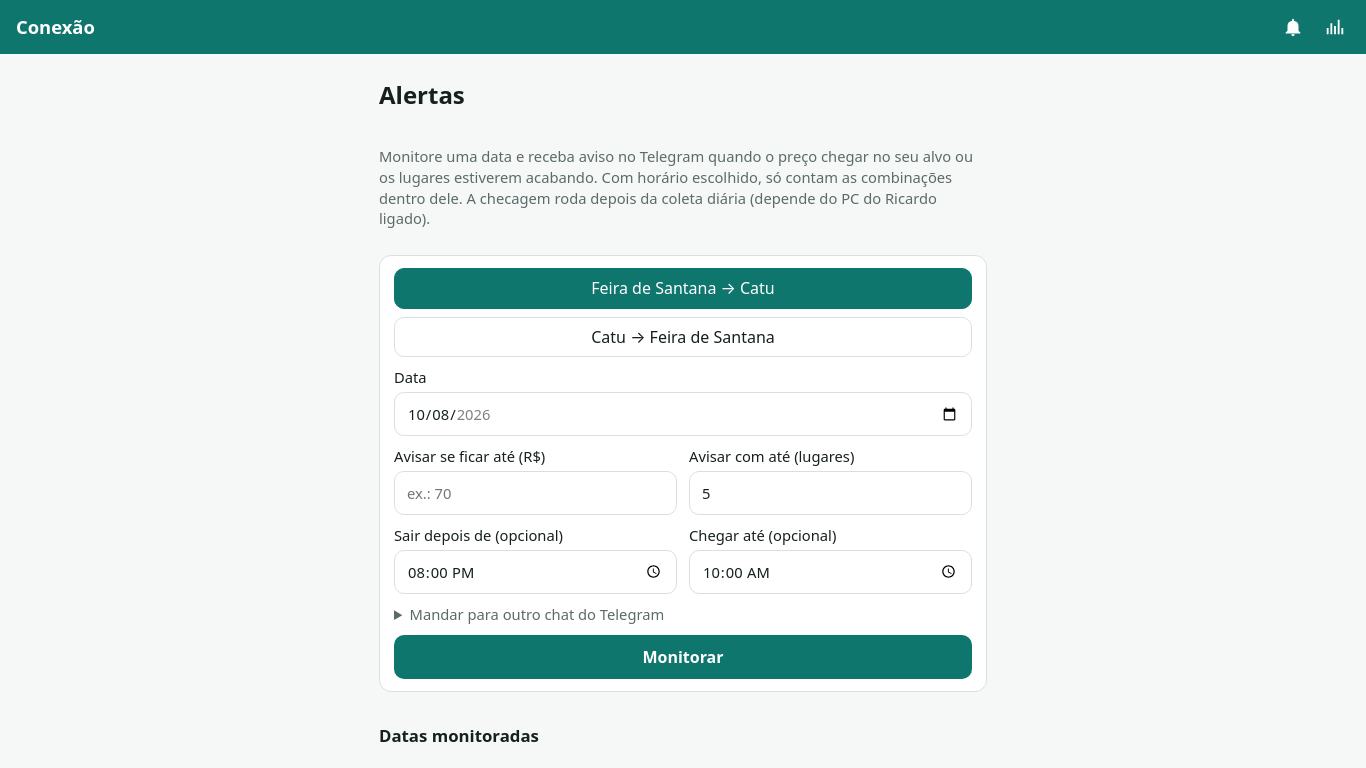
Alertas › janela invertida não é enviada
The width and height of the screenshot is (1366, 768).
Click the button "Monitorar" at (683, 657), box [394, 635, 972, 679]
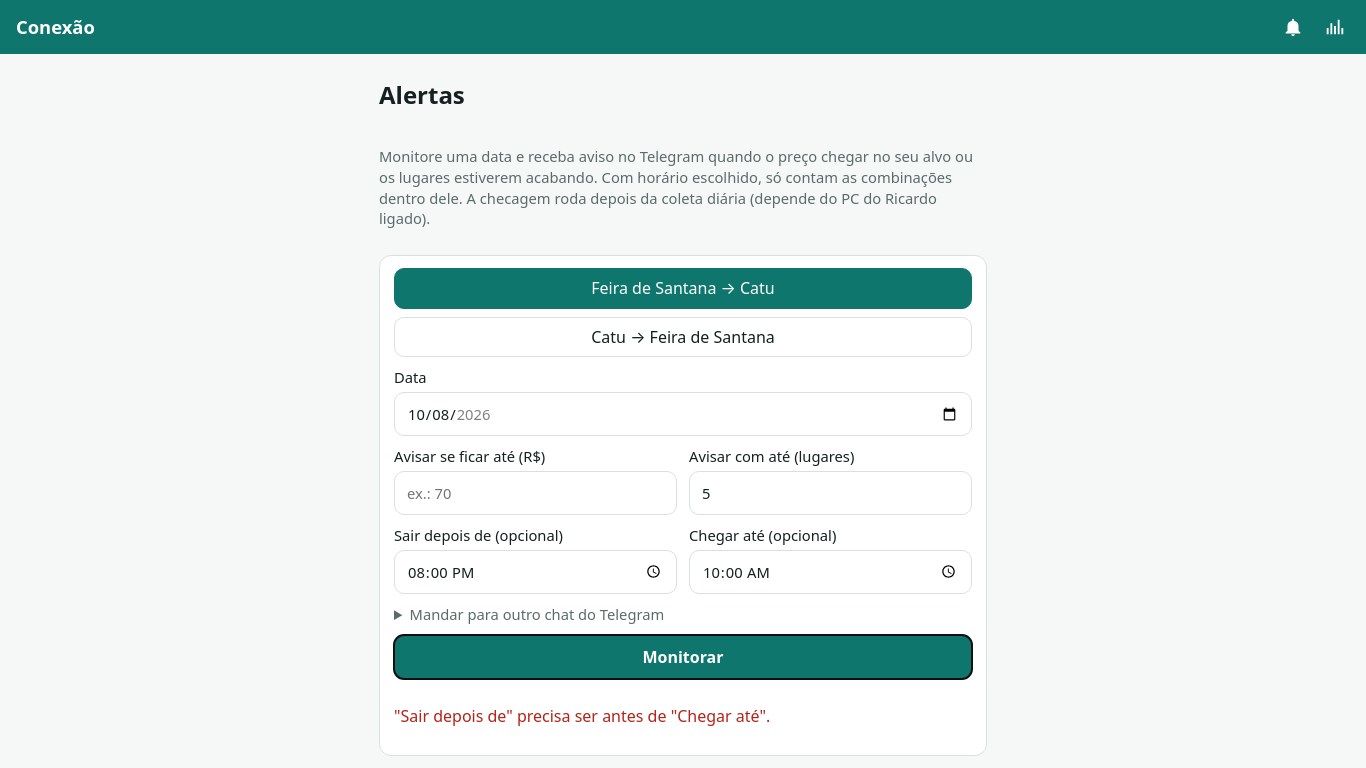
Result: the text "\"Sair depois de\" precisa ser antes de \"Chegar até\"." is shown at [394, 705, 770, 727]
